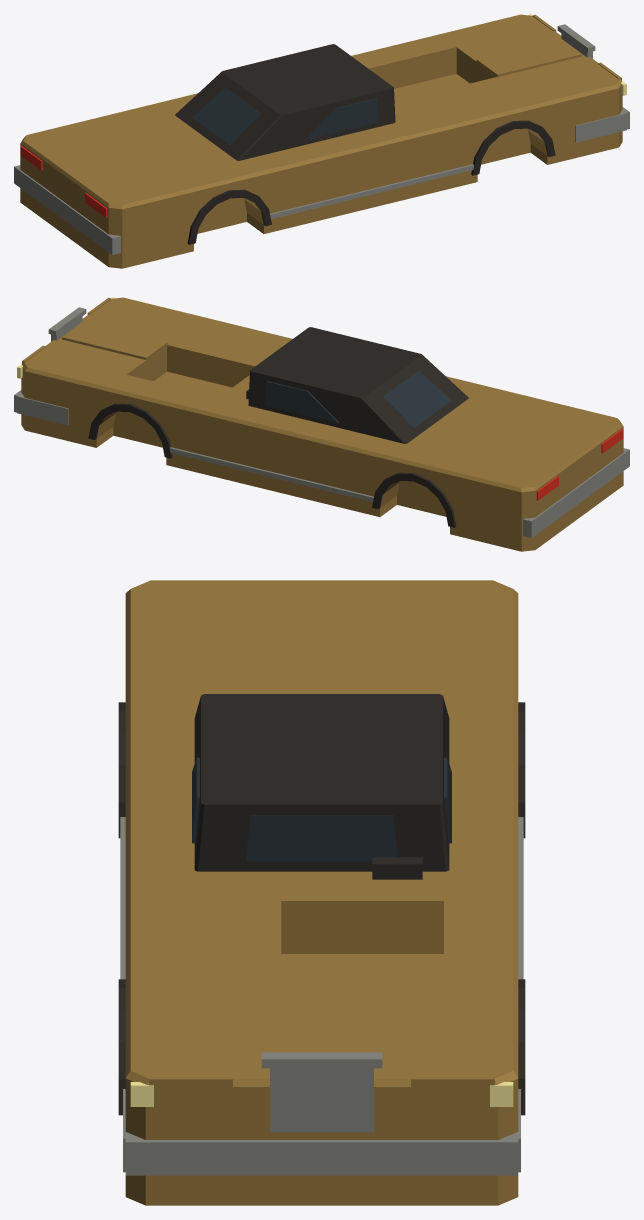
Rendered from base_lincoln.glb.
3 renders of one model, top to bottom at view 1: azimuth 30°, elevation 25°; view 2: azimuth 150°, elevation 25°; view 3: azimuth 270°, elevation 25°, orthographic. The views are drawn at different scales.
Visible parts, largest first — view 1: base_lincoln; view 2: base_lincoln; view 3: base_lincoln.
Boxes of the visible parts, box(x1,y1,x2,y2) form: base_lincoln: box(14, 14, 629, 268); base_lincoln: box(14, 297, 629, 551); base_lincoln: box(118, 580, 525, 1205).
Bounding box in the file's own units: 7.12 × 1.26 × 2.42.
